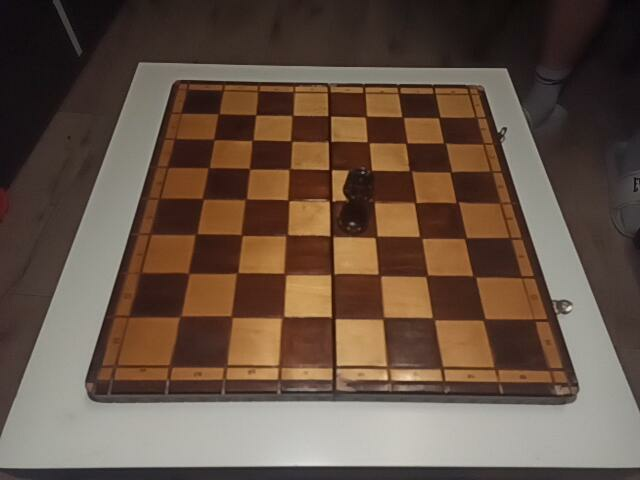B-Rook: (338, 167, 376, 235)
